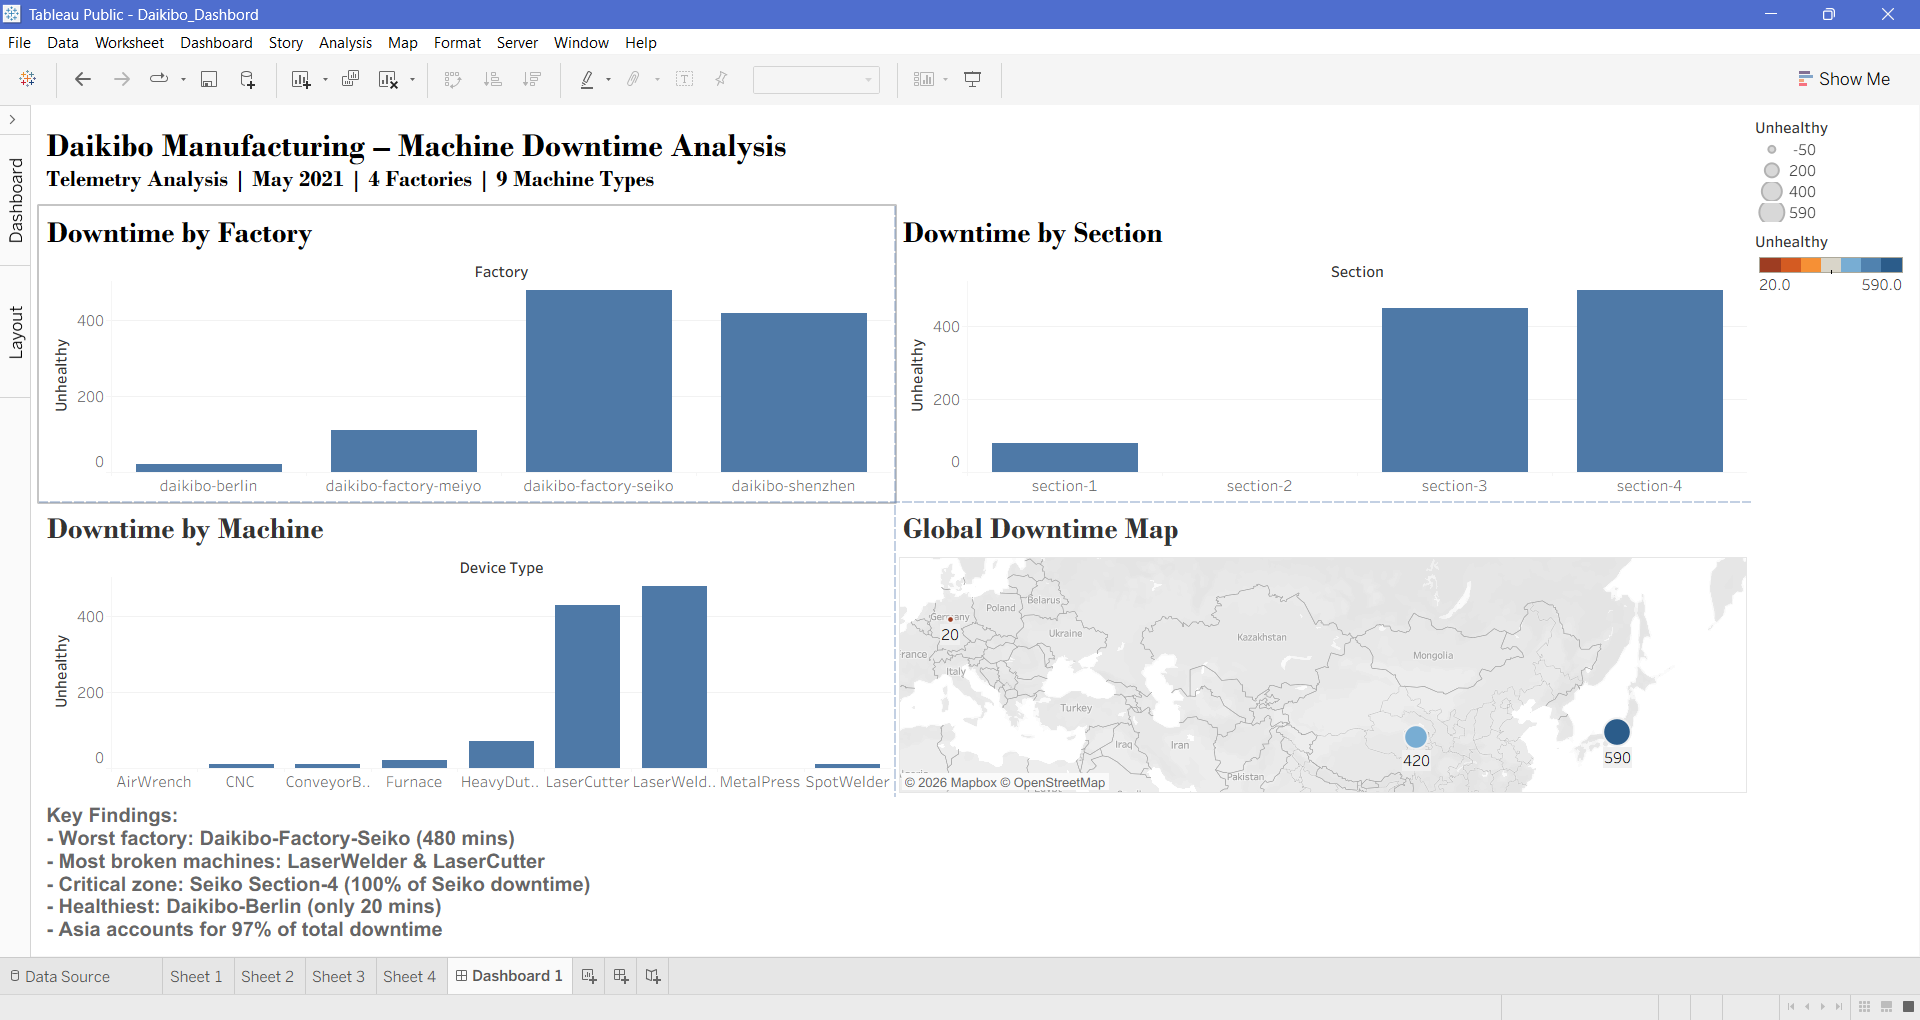

The page's visual inventory and layout, read from the dashboard file:
{"tool":"tableau","page":{"name":"Dashboard 1","canvas":[1000,1000],"units":"permille","ordinal":0},"visuals":[{"type":"title","box":[4.2,9.4,906.8,109.7]},{"type":"legend","title":"Sheet 4","param":"[federated.0463d0t0ue8sww16un1bv0zsn9ti].[sum:Calculation_0797703894278144:qk]","box":[911,9.4,84.8,28.2]},{"type":"legend","title":"Sheet 4","param":"[federated.0463d0t0ue8sww16un1bv0zsn9ti].[sum:Calculation_0797703894278144:qk]","box":[911,37.6,84.8,85.8]},{"type":"worksheet","title":"Sheet 1","mark":"Automatic","rows":["Calculation_0797703894278144"],"cols":["factory"],"box":[4.2,119.1,453.4,347]},{"type":"worksheet","title":"Sheet 3","mark":"Automatic","rows":["Calculation_0797703894278144"],"cols":["section"],"box":[457.6,119.1,453.4,347]},{"type":"worksheet","title":"Sheet 2","mark":"Automatic","rows":["Calculation_0797703894278144"],"cols":["deviceType"],"box":[4.2,466.1,453.4,347.1]},{"type":"worksheet","title":"Sheet 4","mark":"Square","box":[457.6,466.1,453.4,347.1]},{"type":"text","box":[4.2,813.2,991.5,177.4]}]}

Visuals, with their boxes on the dashboard's canvas, which has no fixed pixel size, in thousandths of its width and height (x1, y1, x2, y2). These are canvas units, not pixel positions in the 1920x1020 screenshot, which may show the page scaled, cropped or inside an application window:
title: (4,9,911,119)
"Sheet 4" legend: (911,9,996,38)
"Sheet 4" legend: (911,38,996,123)
"Sheet 1" worksheet: (4,119,458,466)
"Sheet 3" worksheet: (458,119,911,466)
"Sheet 2" worksheet: (4,466,458,813)
"Sheet 4" worksheet (Square marks): (458,466,911,813)
text: (4,813,996,991)
